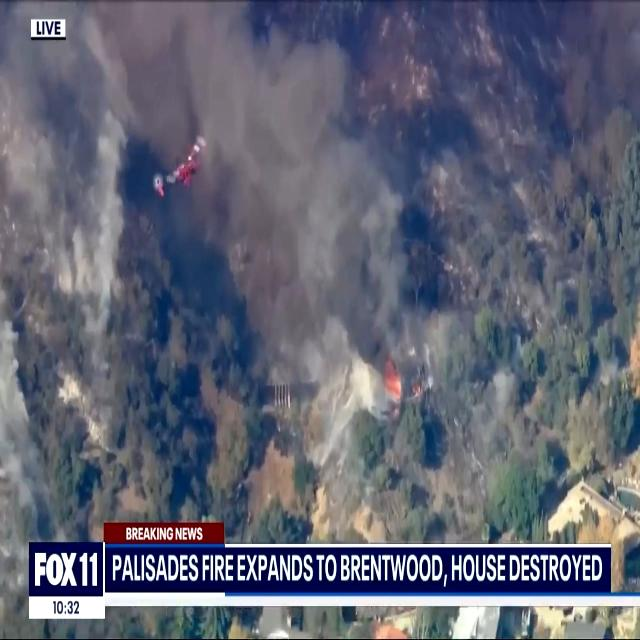Smoke: (205, 5, 385, 370)
